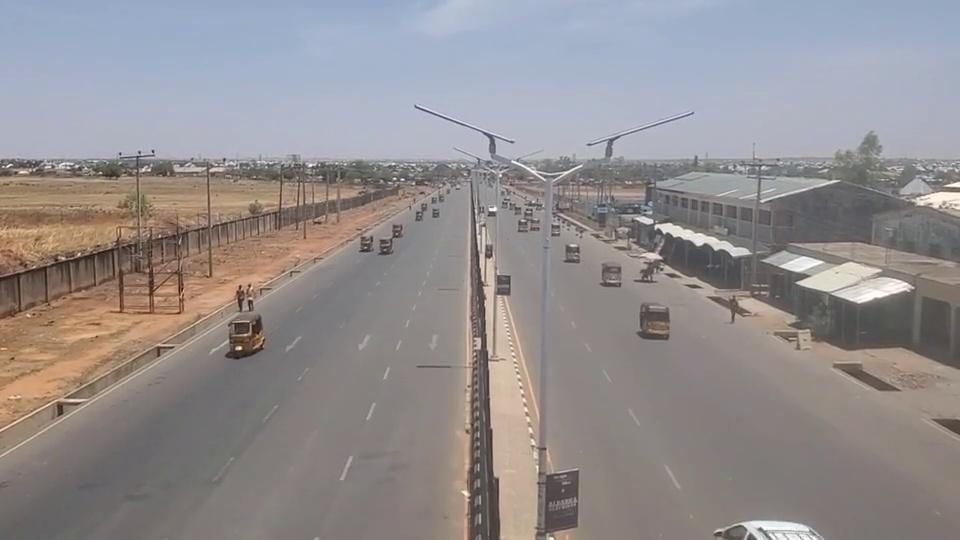car: (713, 520, 827, 540)
keke: (227, 312, 265, 357), (638, 301, 670, 339), (601, 261, 622, 286), (565, 243, 581, 262), (359, 234, 374, 252), (379, 237, 393, 254), (392, 224, 403, 238), (551, 215, 561, 228), (415, 210, 423, 221), (432, 207, 440, 217)
